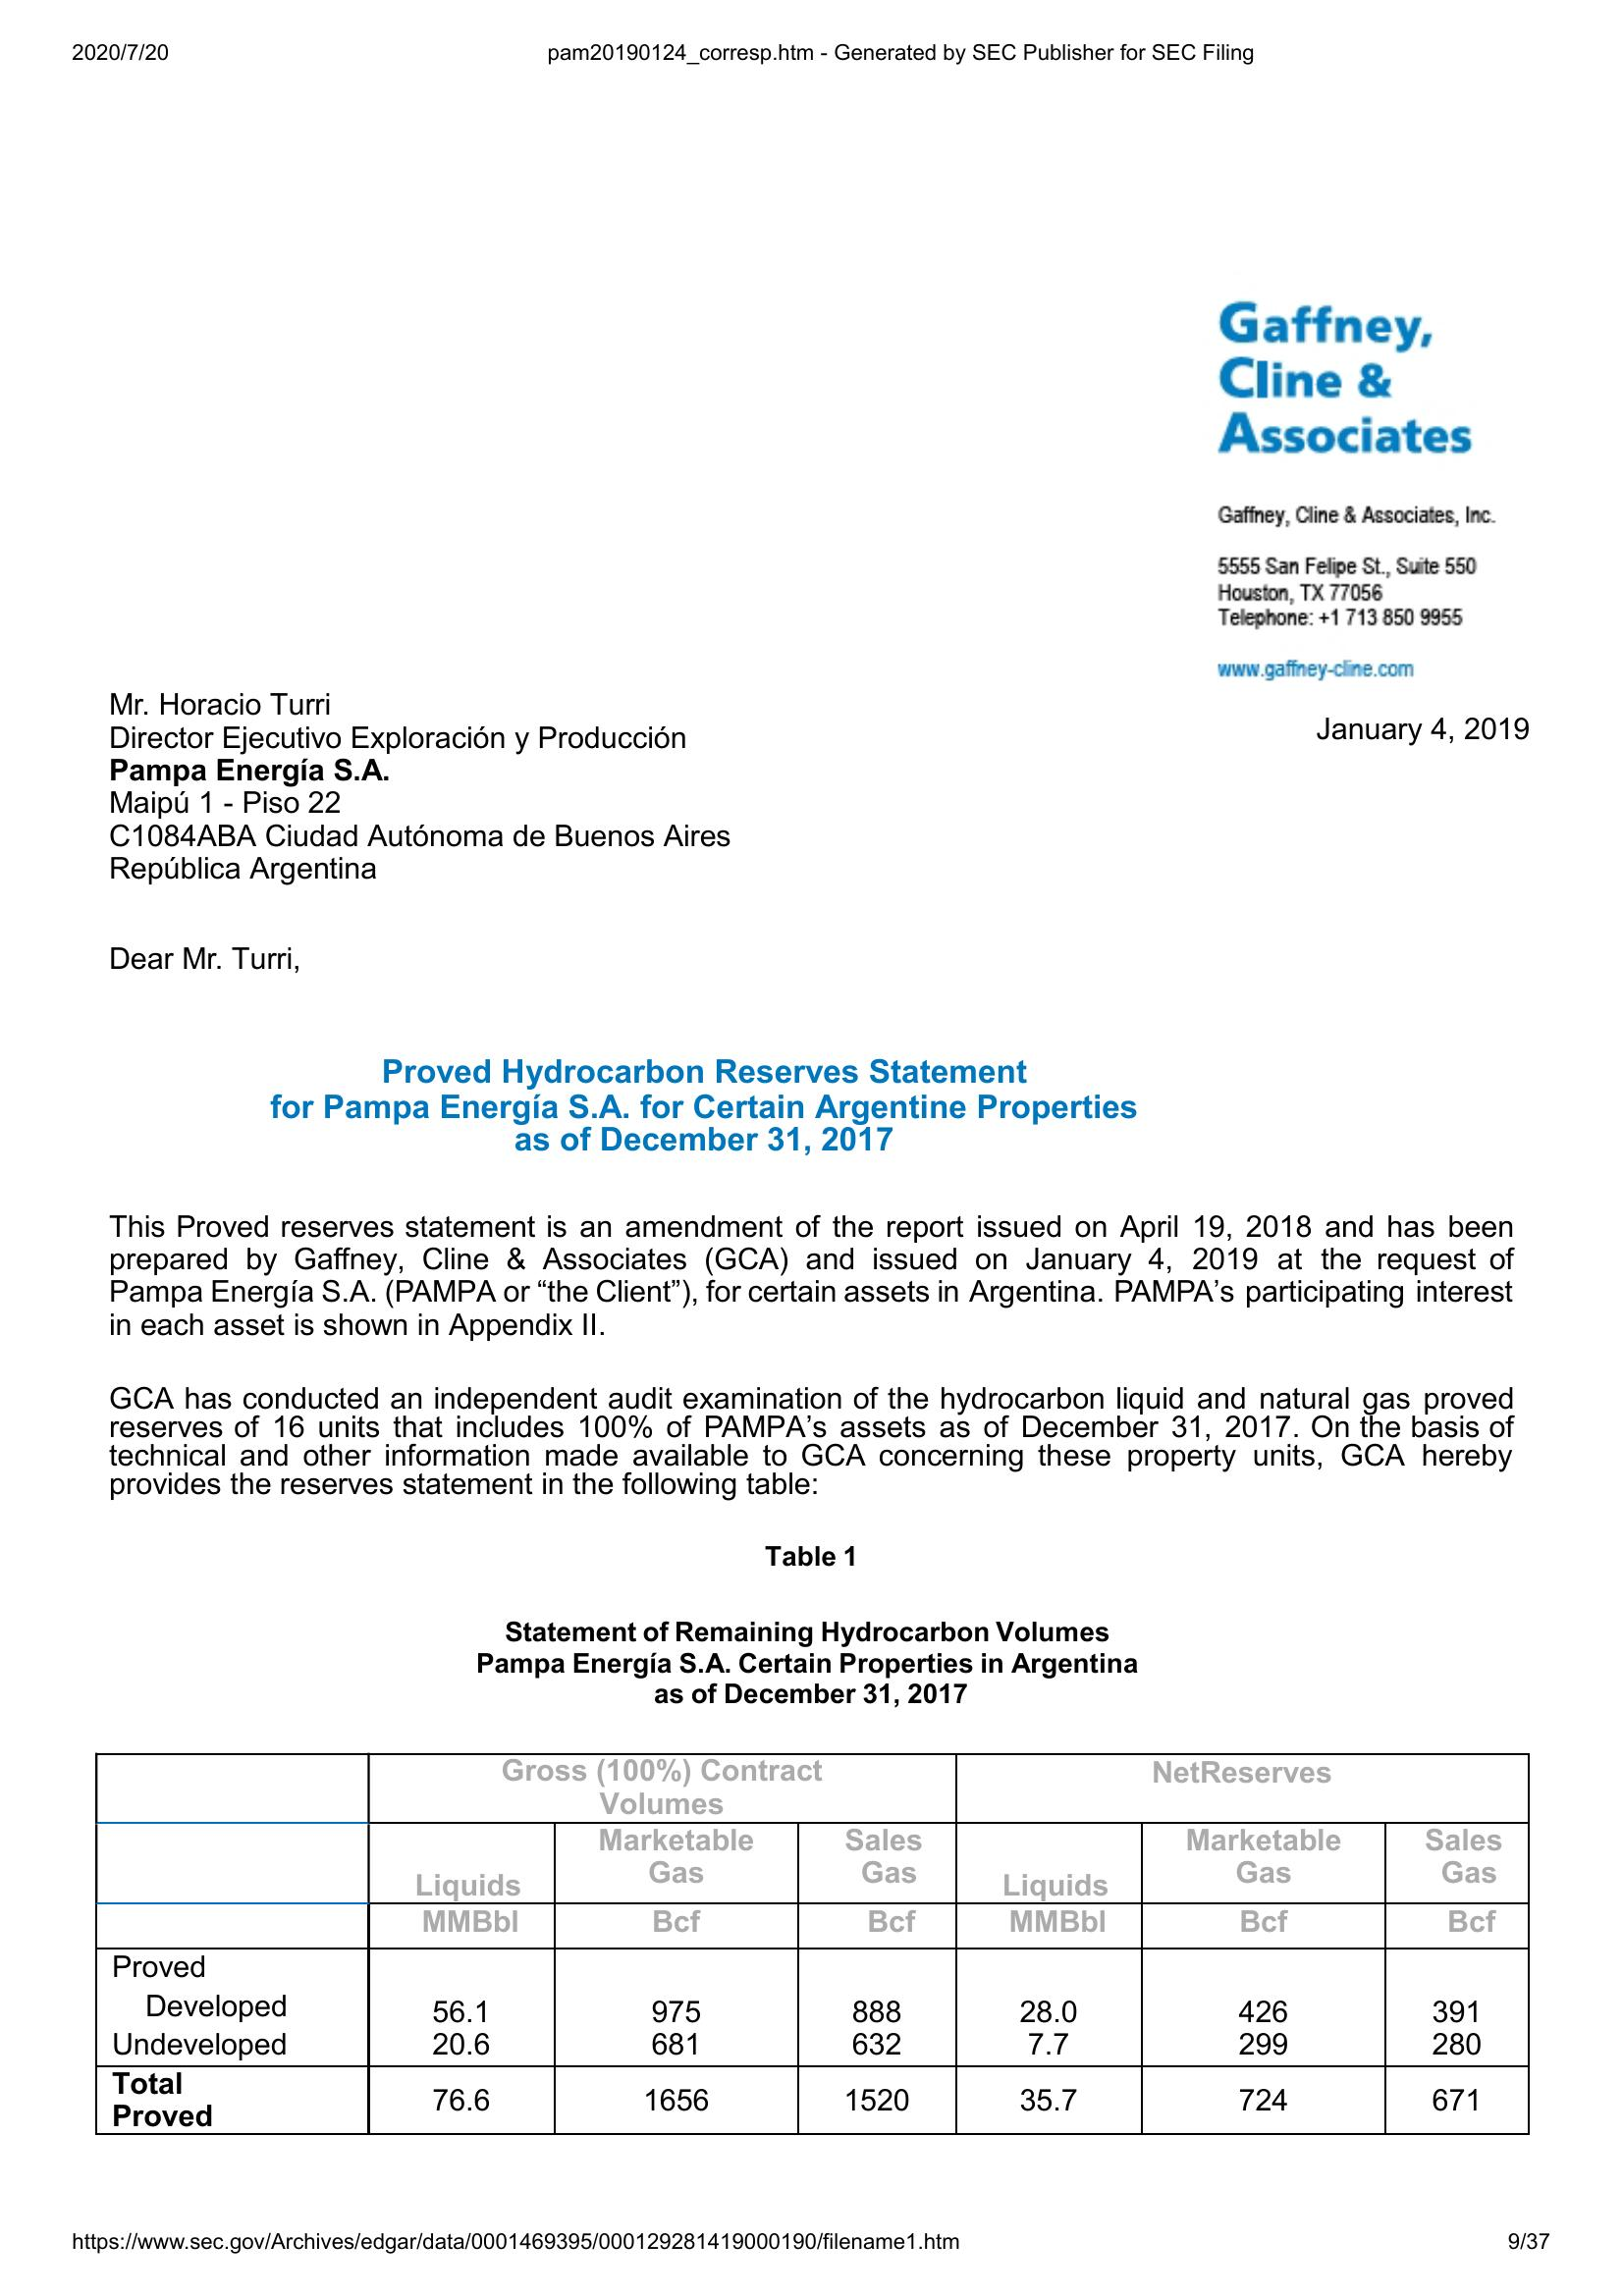table: (93, 1745, 1537, 2143)
